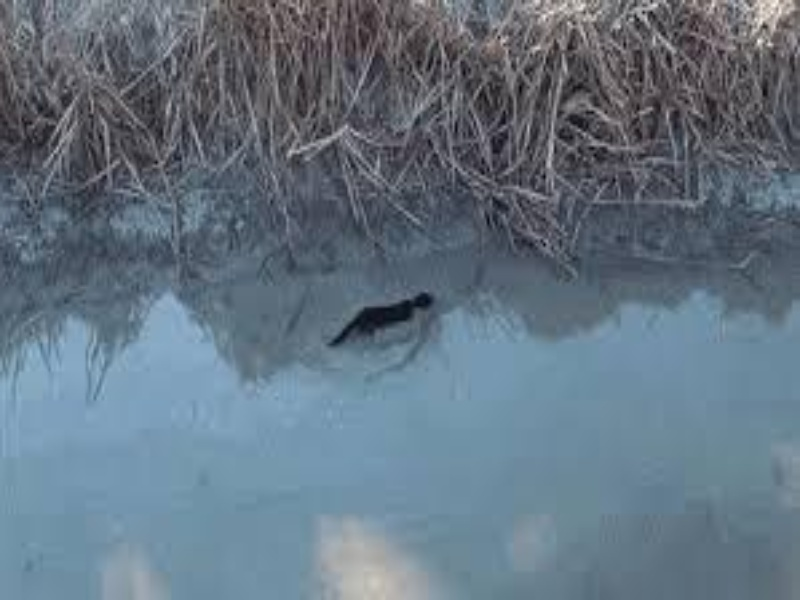minkish: (327, 289, 441, 350)
